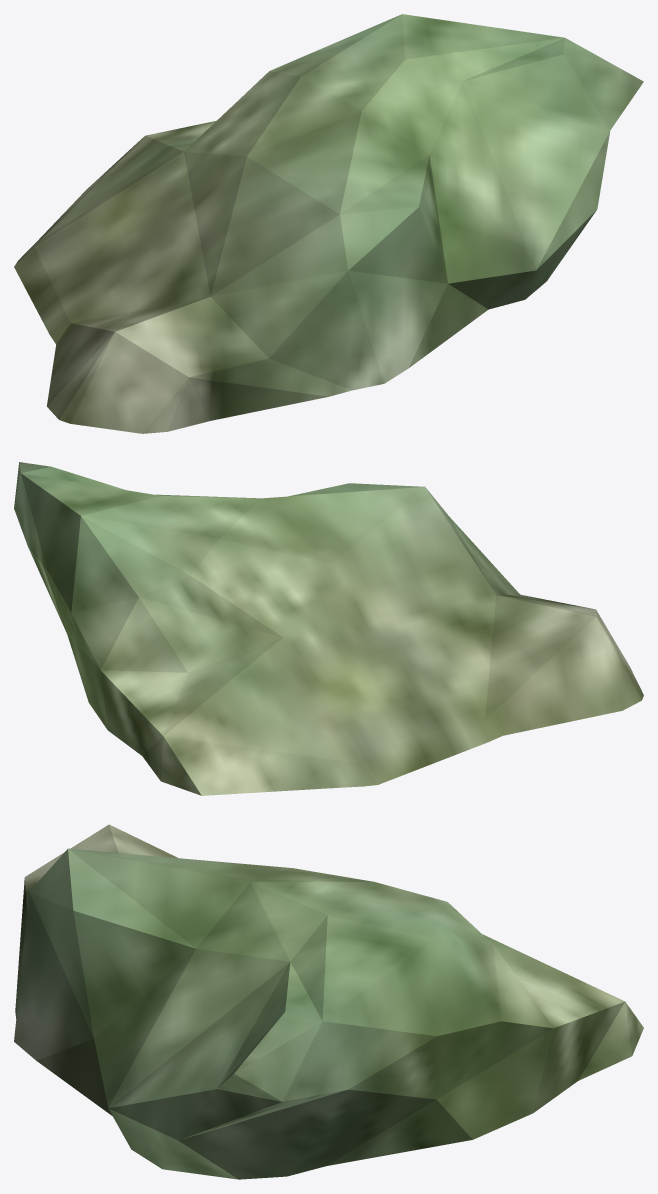
The picture shows the model from 3 angles, top to bottom: view 1: azimuth 30°, elevation 25°; view 2: azimuth 150°, elevation 25°; view 3: azimuth 270°, elevation 25°; orthographic projection. The views are drawn at different scales.
Size of the model in its own units: 0.6363 by 0.1792 by 0.4737.
Materials: 1 (1 with a texture image).
